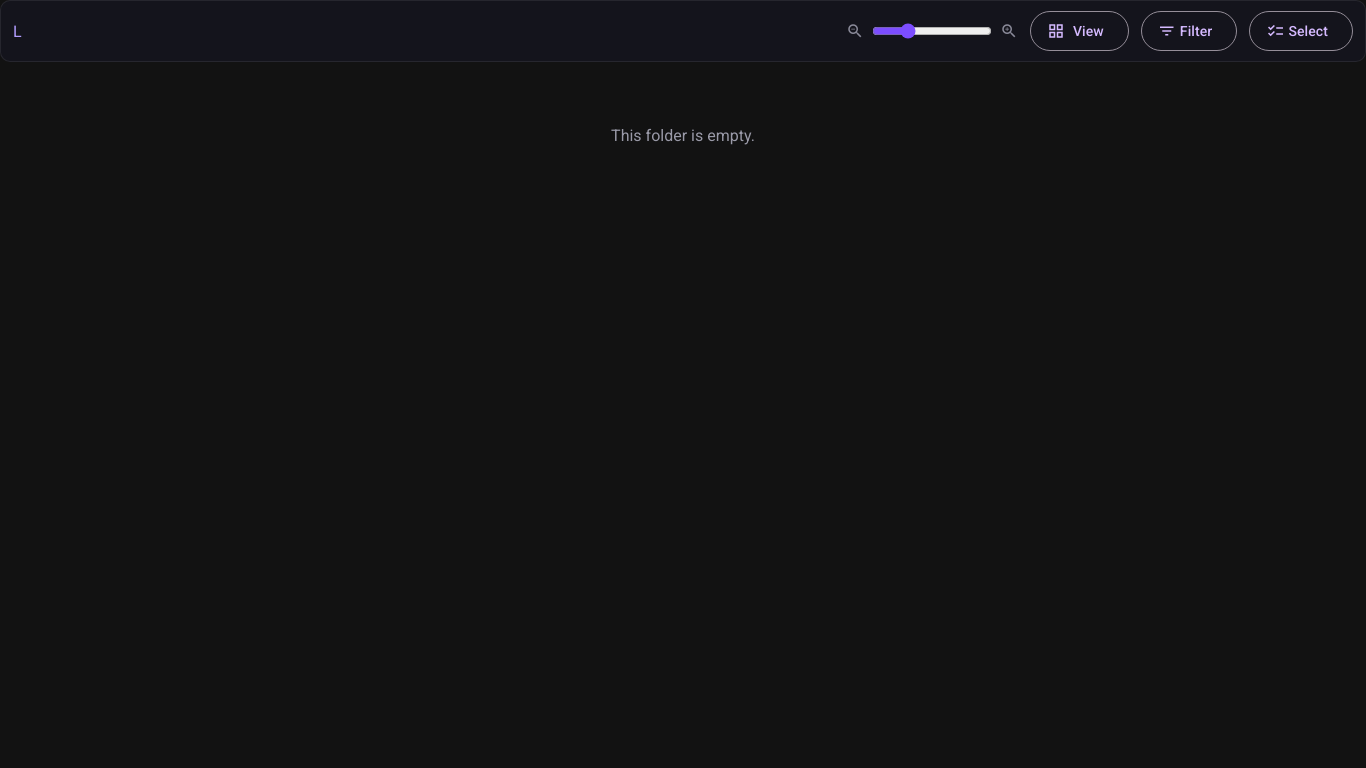
Test case: LibraryBrowseComponent view menu selected highlight (1.8.1) › every menu item is a menuitemradio (single-selection semantics for a11y)
Click the button "View": (1079, 31) [1030,11,1129,51]
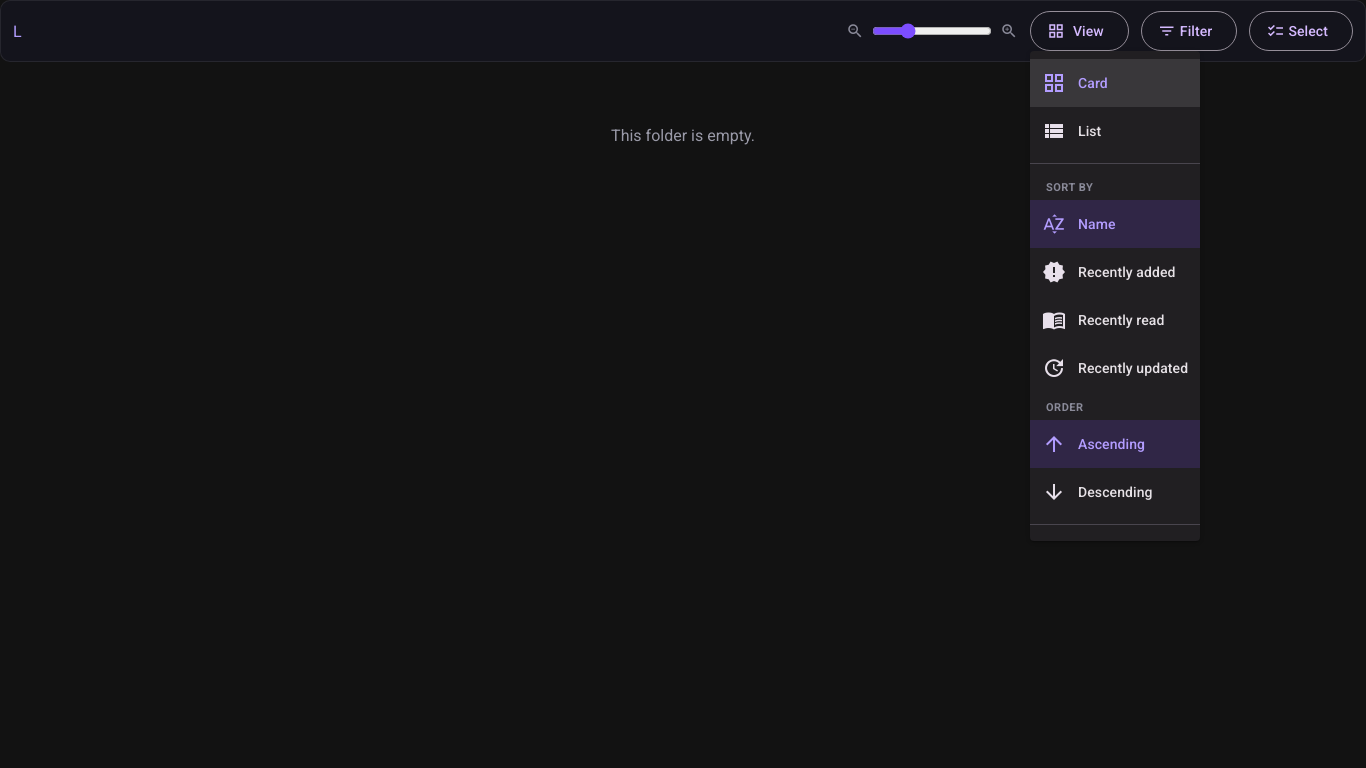
expect the menu is shown: met, box [1030,51,1200,541]
